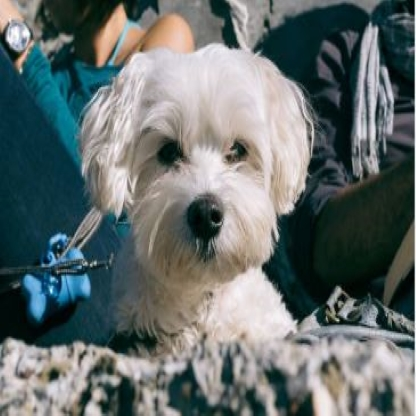maltese: (78, 40, 319, 342)
